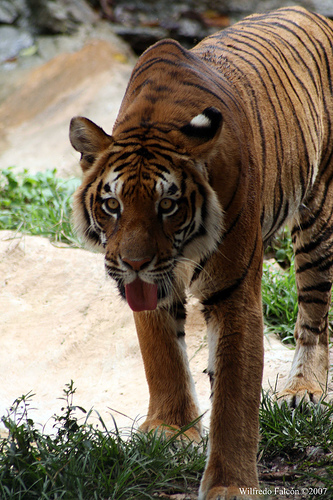Tigre: (72, 22, 330, 460)
